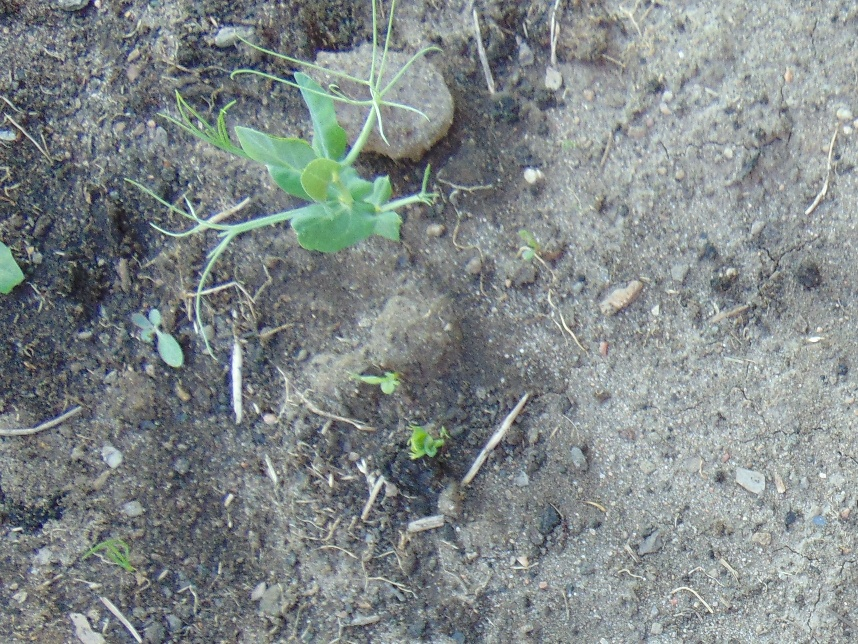crop: (197, 23, 441, 296), (404, 423, 452, 465)
weed: (131, 309, 185, 367), (1, 238, 26, 297)
